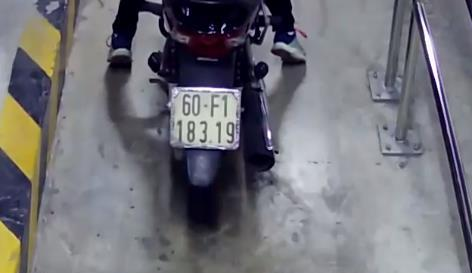lisence: (170, 87, 242, 149)
